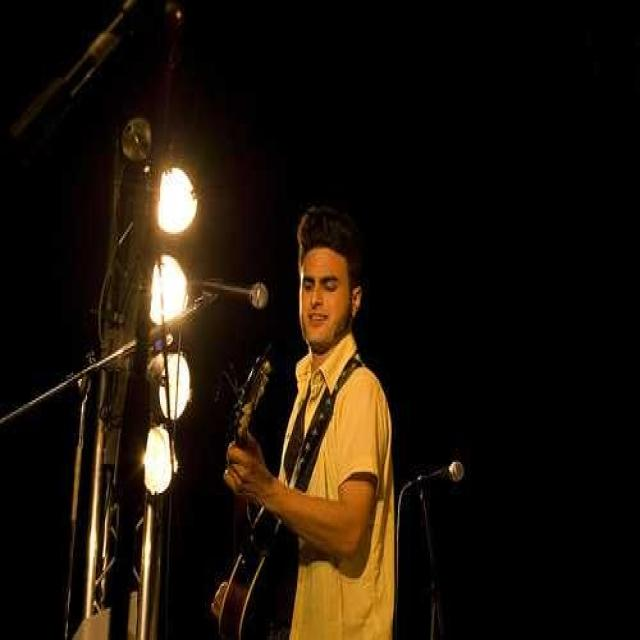microphone: (189, 275, 276, 312), (408, 460, 483, 496)
